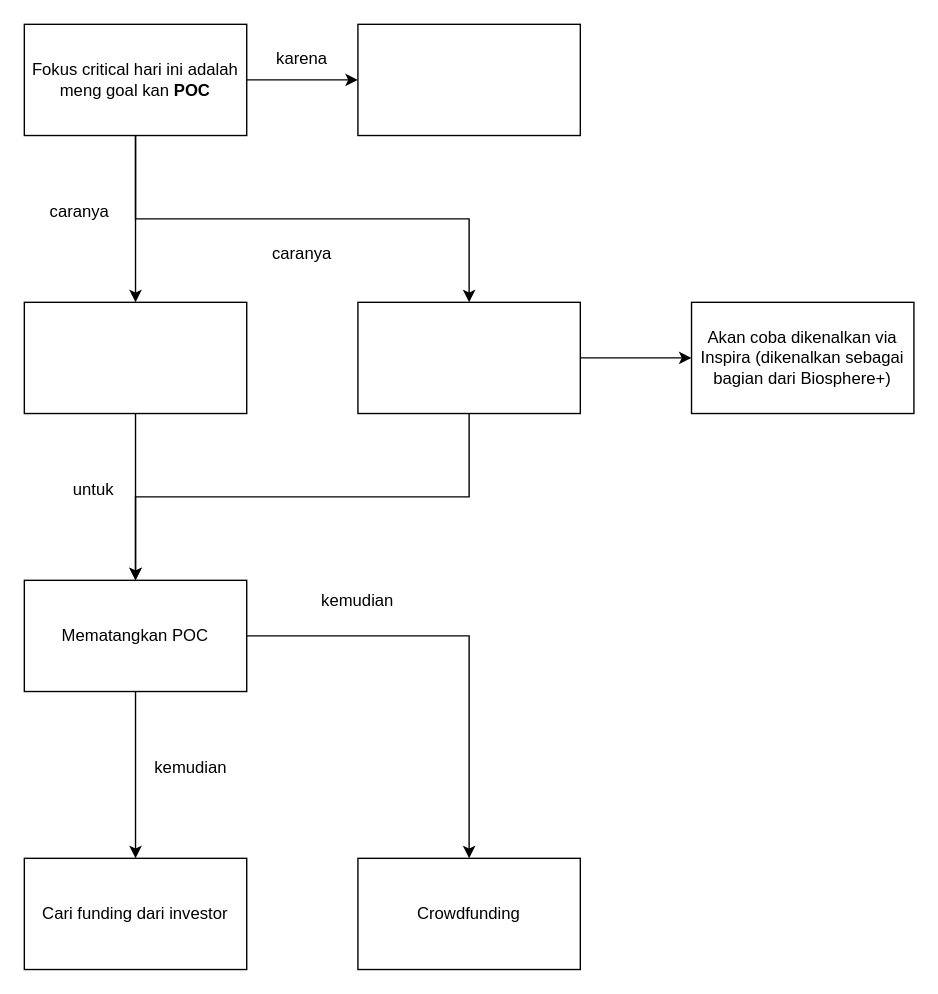
The diagram is 938 pixels wide and 994 high, and some of its shapes have lost their labels. Here are the shapes that lost their labels. From the top down, the centre of each, then its label:
[468,79]: Investor baru mau chip in kalau udah ada market, dan teknologinya udah TKT-7
[135,357]: Kerjasama riset pemerintah (yang di indonesia yang dikejar)
[468,357]: CSR dari perusahaan (ini paling feasibel)
